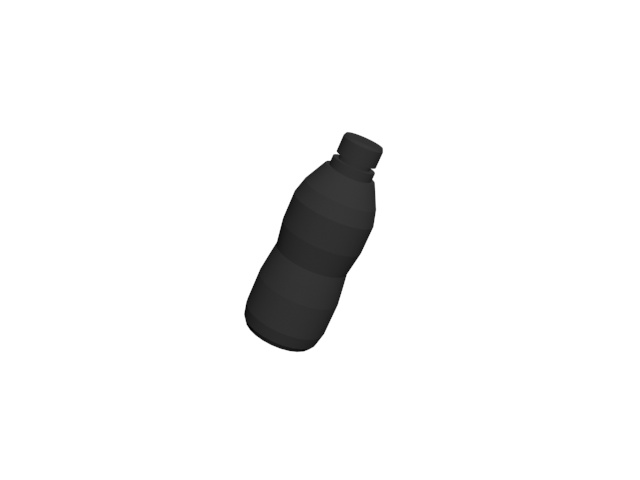bottle: (241, 129, 384, 359)
